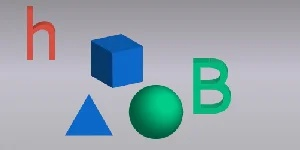三角形: (62, 93, 116, 139)
大写字母: (192, 56, 232, 116)
小写字母: (23, 5, 57, 63)
正方体: (88, 32, 145, 87)
球体: (129, 85, 182, 140)
